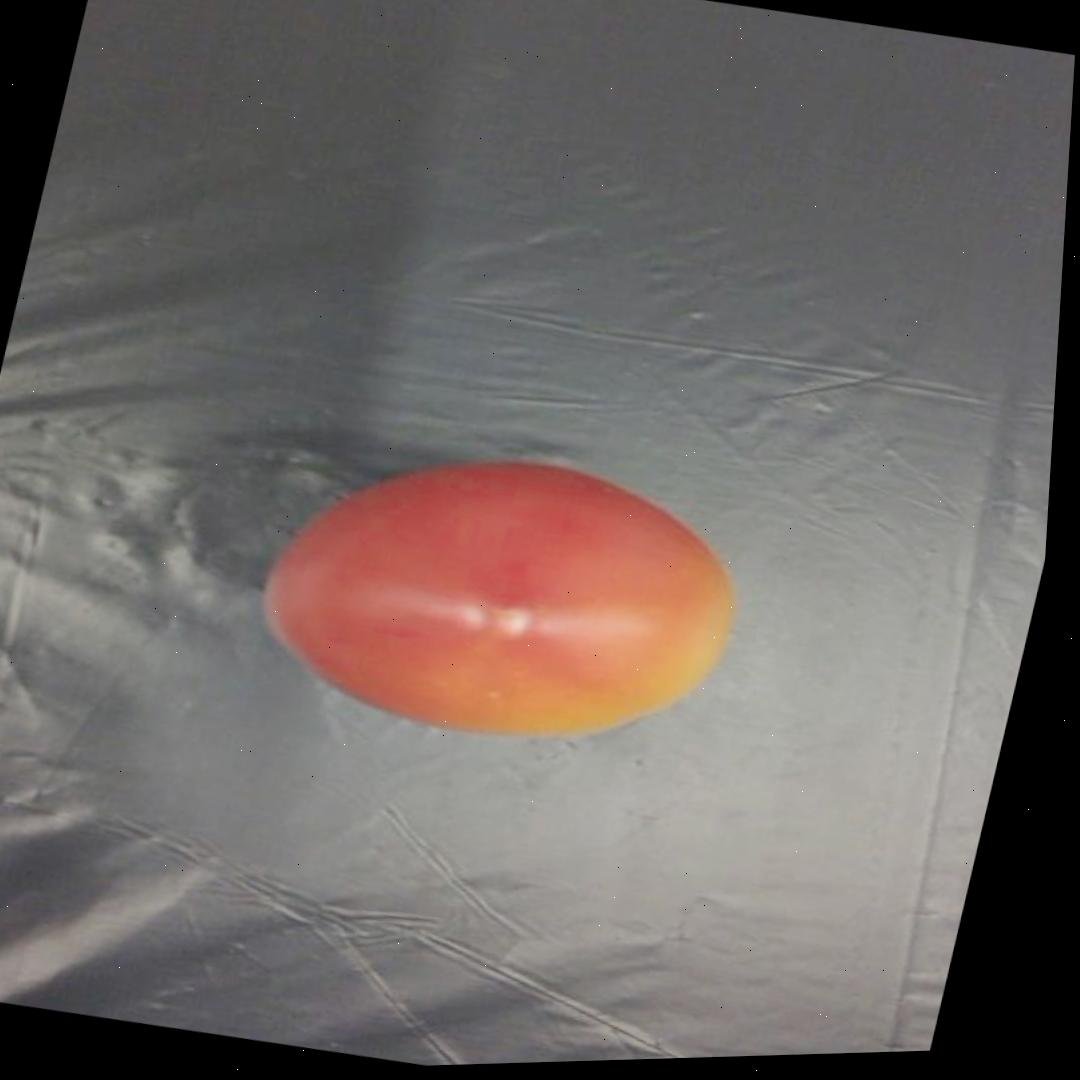matang: (230, 415, 768, 783)
